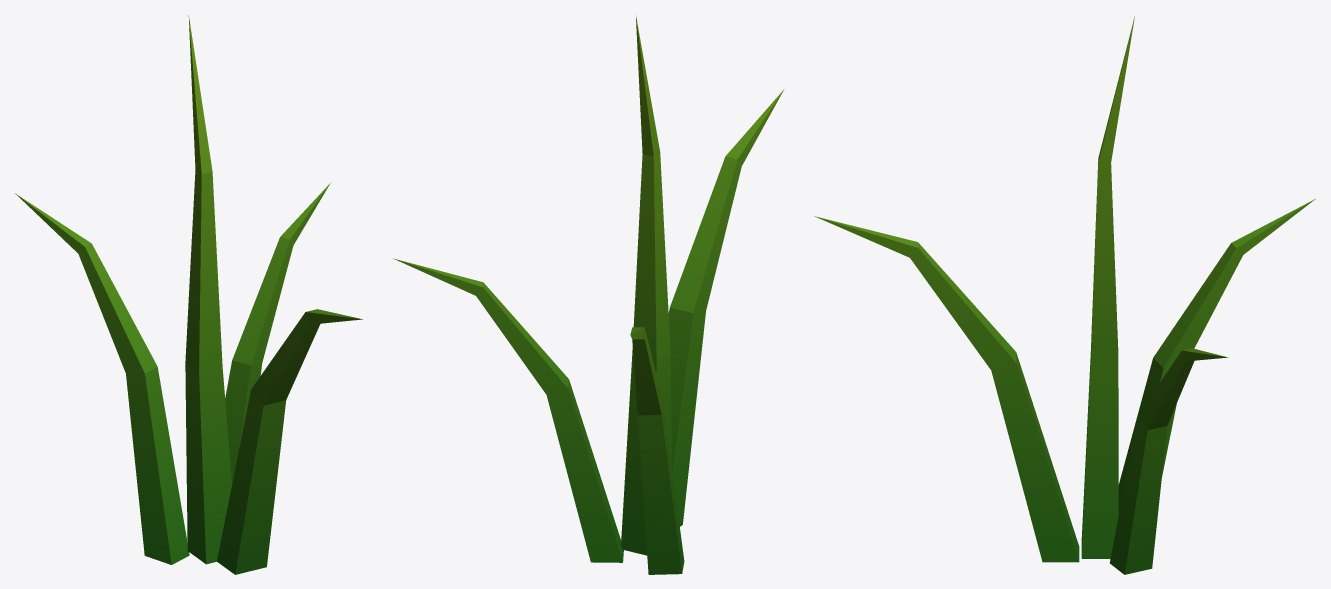
File: Grass_05.fbx
3 renders of one model, left to right at view 1: azimuth 30°, elevation 25°; view 2: azimuth 150°, elevation 25°; view 3: azimuth 270°, elevation 25°, orthographic. The views are drawn at different scales.
Visible parts, largest first — view 1: Grass_05; view 2: Grass_05; view 3: Grass_05.
Boxes of the visible parts, bbox=[...] form: Grass_05: bbox=[15, 15, 362, 574]; Grass_05: bbox=[393, 14, 783, 574]; Grass_05: bbox=[814, 16, 1315, 574].
Size of the model in its own units: 35.18 by 65.66 by 55.54.
